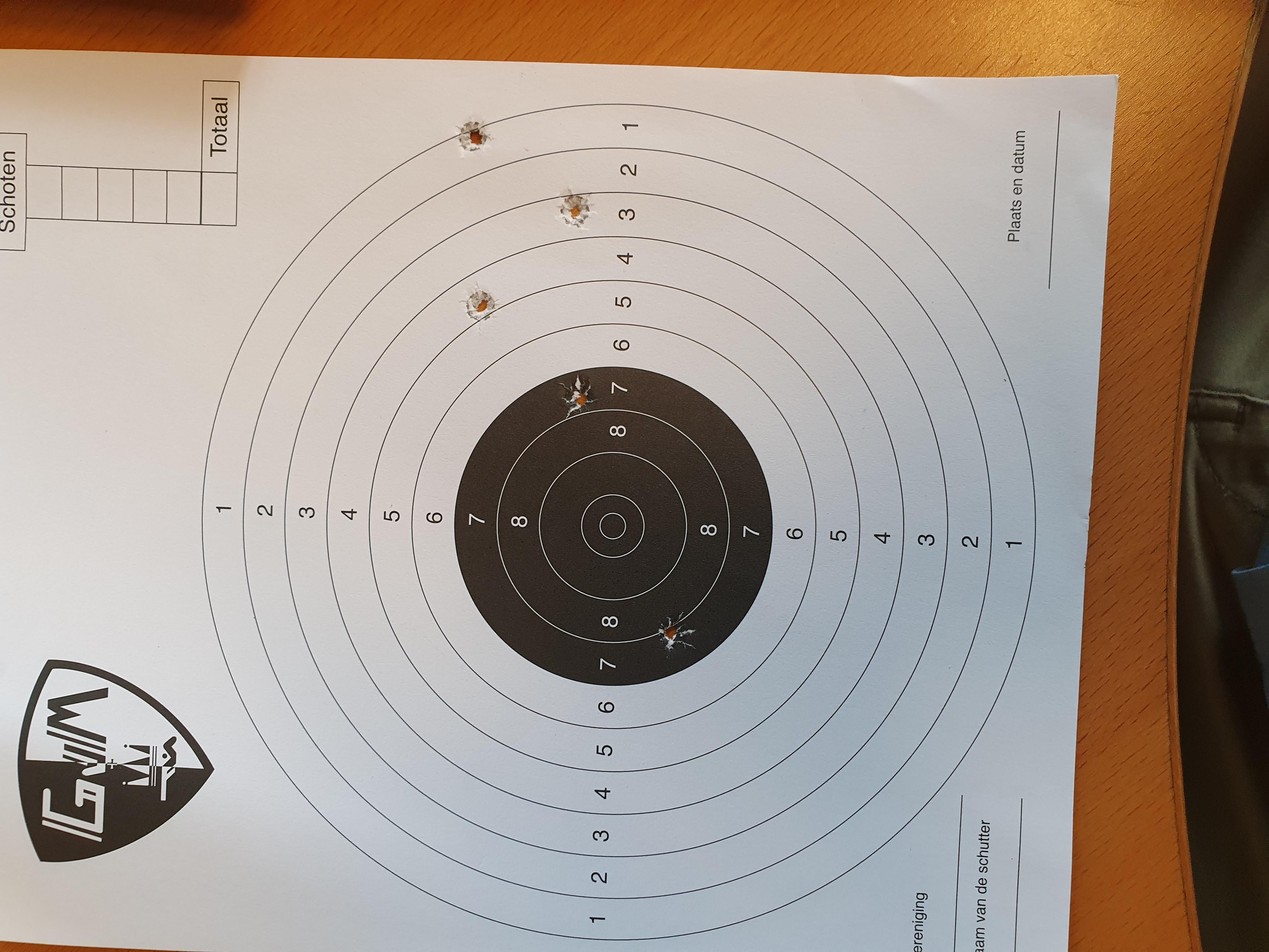hole: (392, 488, 455, 524), (961, 416, 1019, 447), (1062, 335, 1118, 367), (834, 343, 889, 374), (706, 420, 764, 448)
